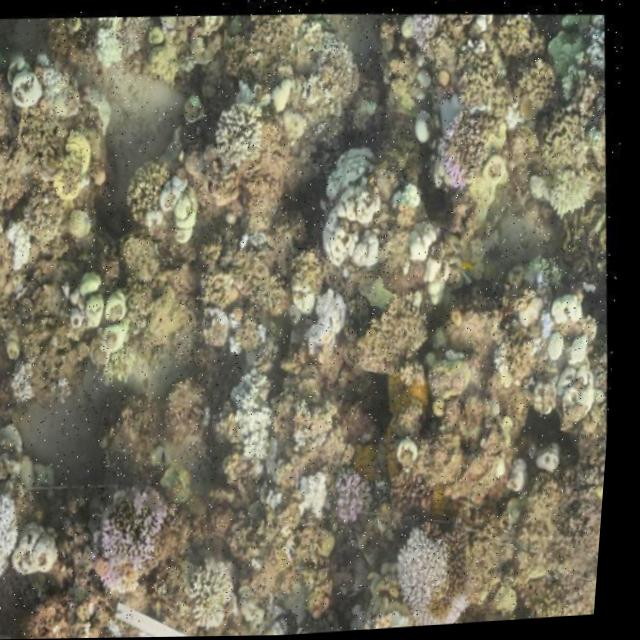Bleached Coral: (379, 156, 470, 326), (521, 281, 618, 435), (307, 129, 396, 272), (387, 521, 489, 630), (220, 352, 291, 475), (182, 546, 254, 634), (200, 98, 282, 171), (301, 283, 363, 354), (546, 148, 602, 218), (0, 200, 49, 276), (0, 486, 34, 588), (293, 460, 342, 514), (0, 385, 18, 472)
